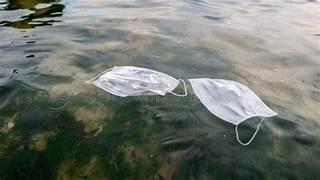Mask: (189, 78, 276, 144), (87, 66, 186, 96)
